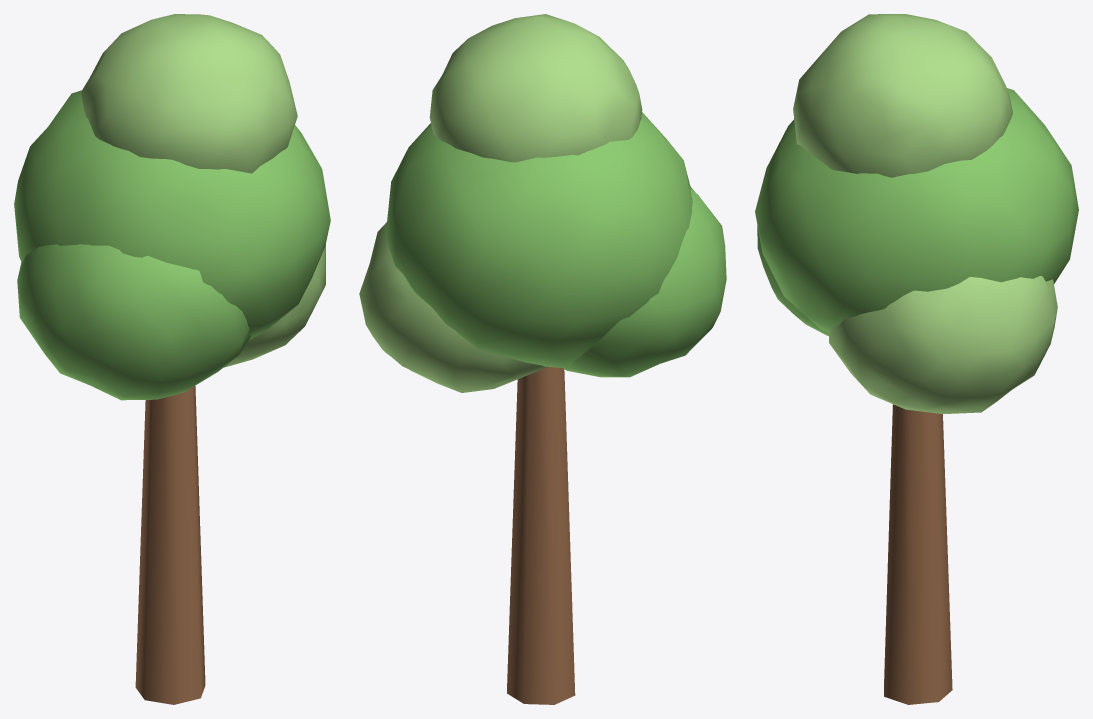
File: tree_tall.glb
3 views of the same model, side by side, from view 1: azimuth 30°, elevation 25°; view 2: azimuth 150°, elevation 25°; view 3: azimuth 270°, elevation 25° (orthographic). The views are drawn at different scales.
Parts seen in each view (by area): view 1: TreeTall; view 2: TreeTall; view 3: TreeTall.
Boxes of the visible parts, x1,y1,x2,y2 form: TreeTall: (14, 14, 330, 704); TreeTall: (359, 14, 726, 704); TreeTall: (755, 14, 1078, 704).
Size of the model in its own units: 1.42 by 2.88 by 1.26.
